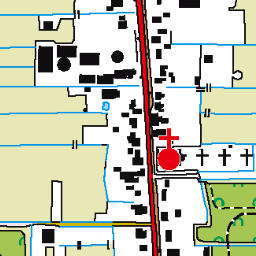church: (155, 127, 182, 173)
